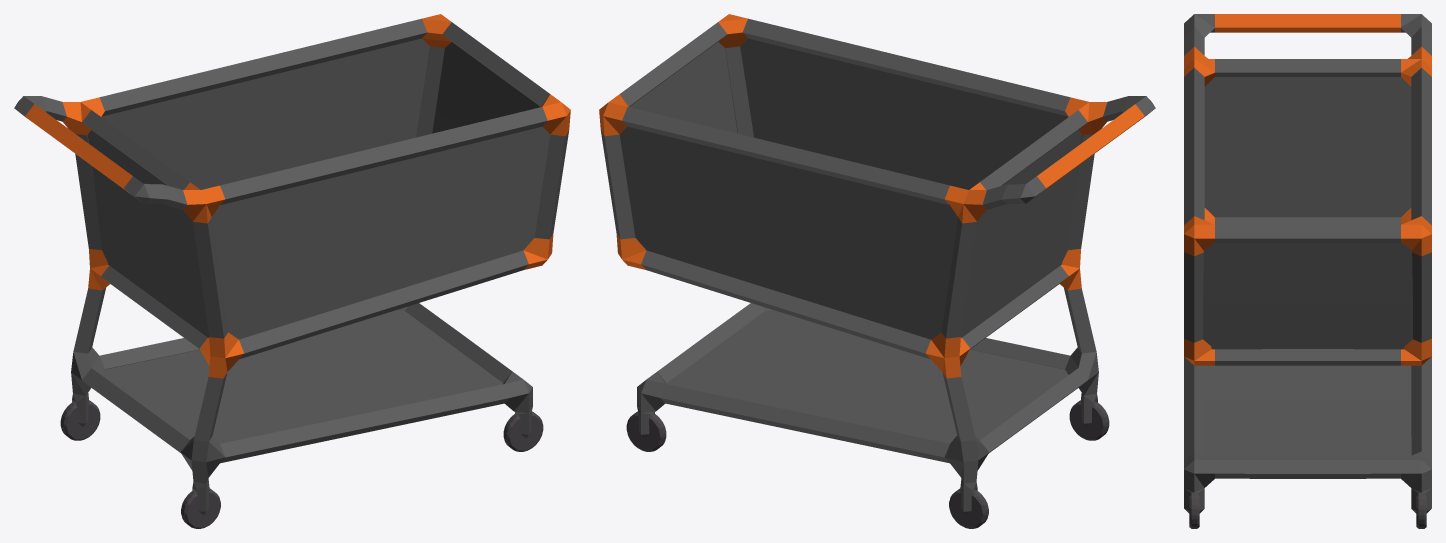
Rendered from Cart_2.fbx.
The picture shows the model from 3 angles, left to right: view 1: azimuth 30°, elevation 25°; view 2: azimuth 150°, elevation 25°; view 3: azimuth 270°, elevation 25°; orthographic projection. The views are drawn at different scales.
Parts seen in each view (by area): view 1: Cart Cleaned4; view 2: Cart Cleaned4; view 3: Cart Cleaned4.
Part boxes in pixels (x1,y1,x2,y2): Cart Cleaned4: (14,14,570,528); Cart Cleaned4: (599,14,1155,528); Cart Cleaned4: (1184,14,1431,528).
Bounding box in the file's own units: 230 × 181 × 120.
